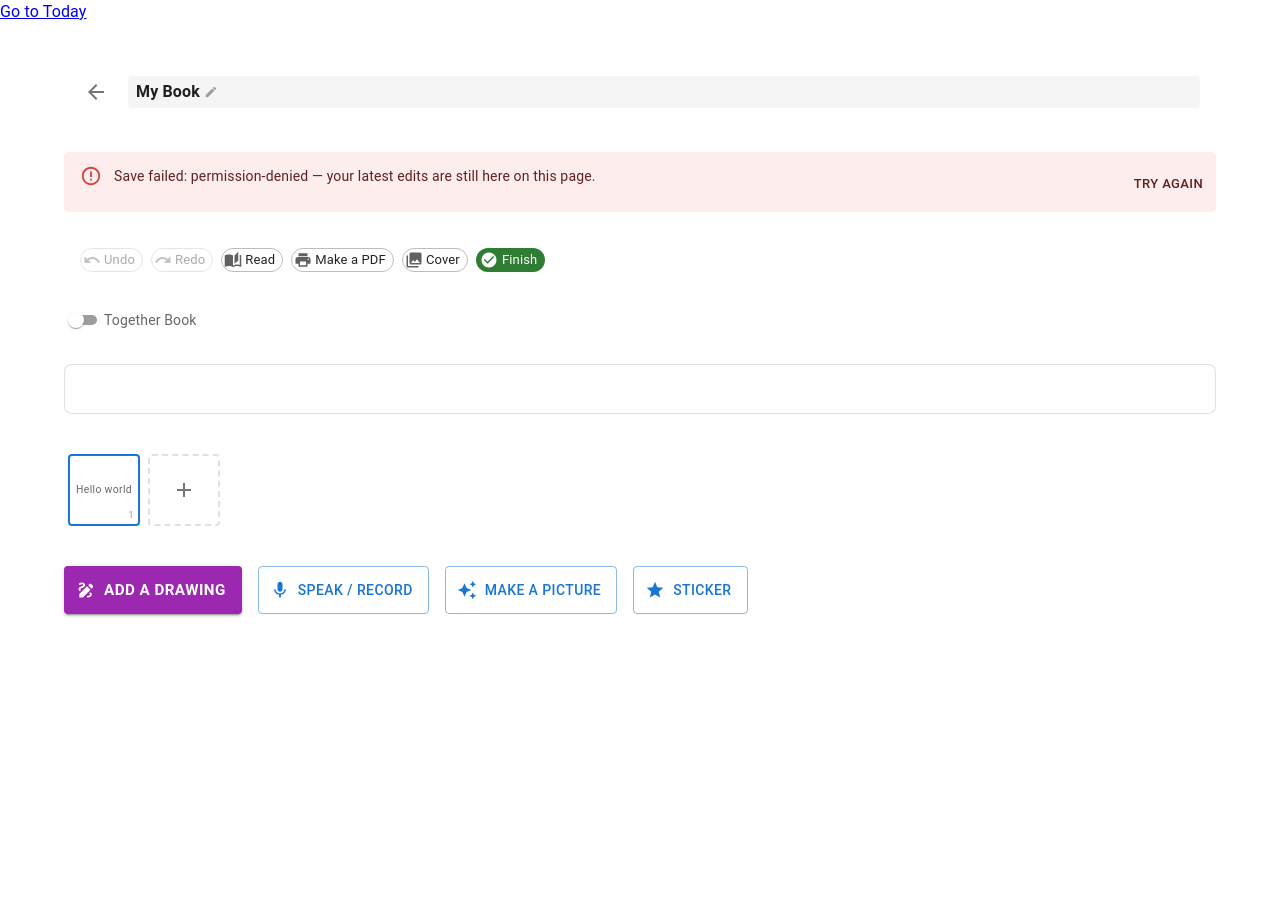
BookEditorPage — departures while a save has failed (UX-473) › cancels the departure on "Stay here" and leaves the draft exactly where it was
Click the button named "My Books". click: (96, 92)
box: [72,68,120,116]
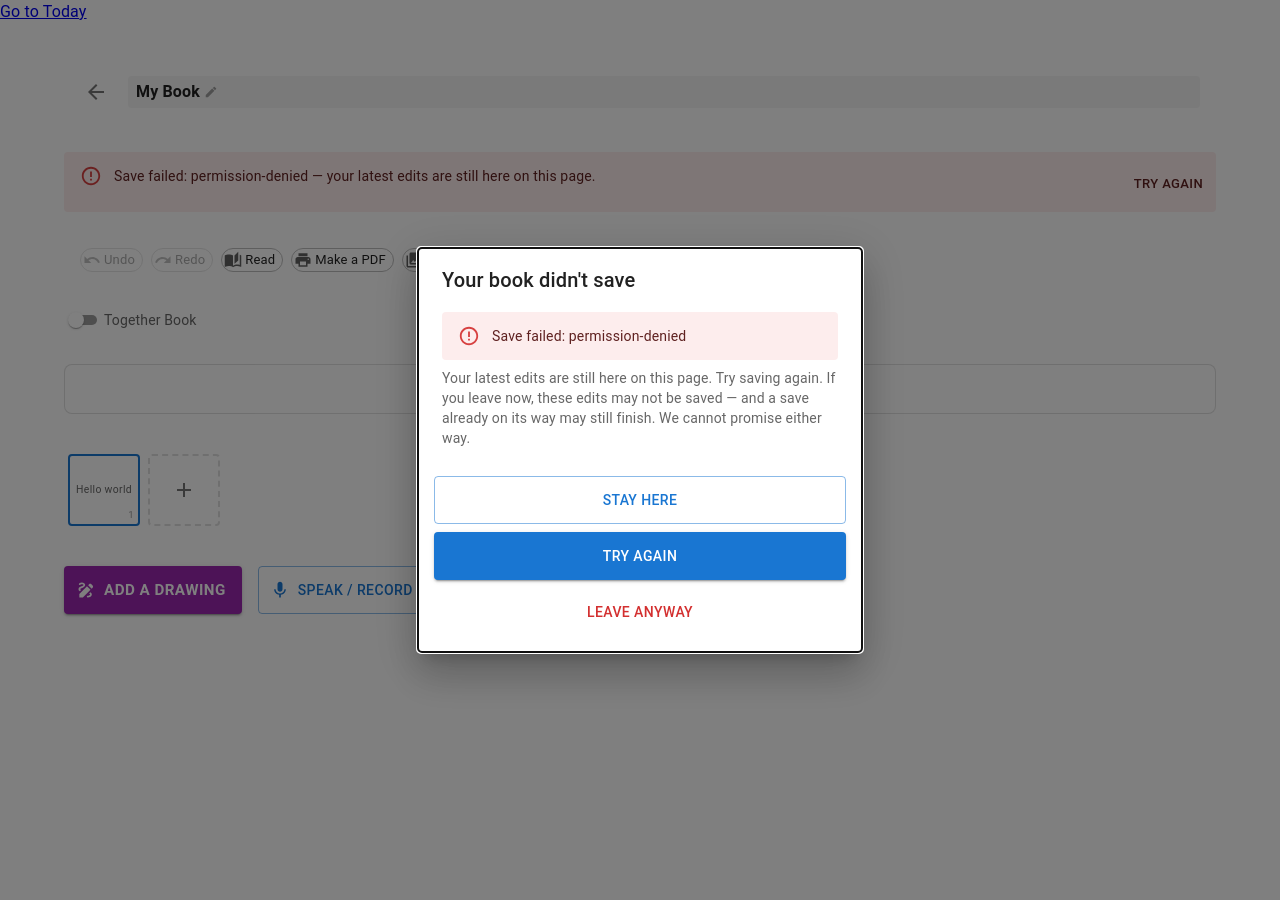
Expected: the heading "Your book didn't save" is shown, [442,268,635,292]
Click the button "Stay here". click: (640, 500)
box: [434,476,846,524]
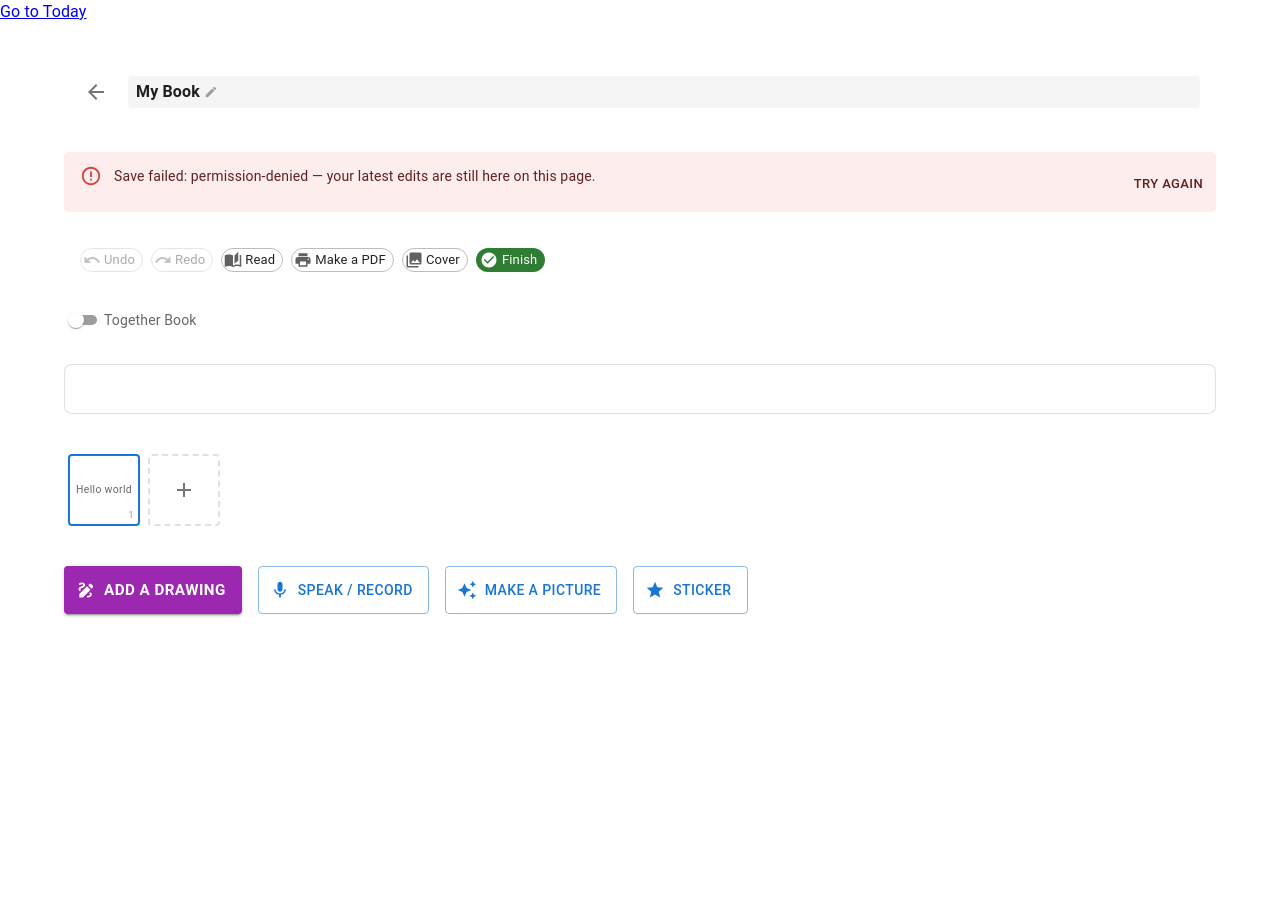
Expected: the heading "My Book" is shown, [128,76,1200,108]
Expected: the heading "Your book didn't save" is gone
